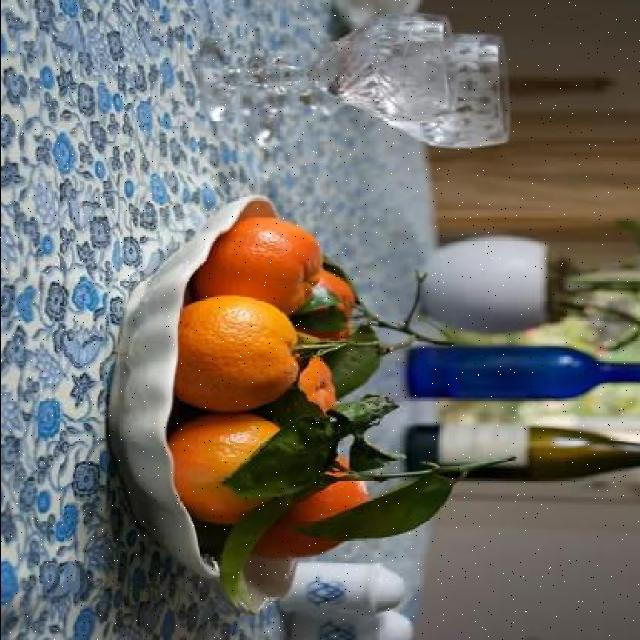Orange: (174, 294, 302, 411), (170, 412, 288, 524), (193, 215, 324, 314), (251, 456, 371, 558), (295, 269, 357, 343)
